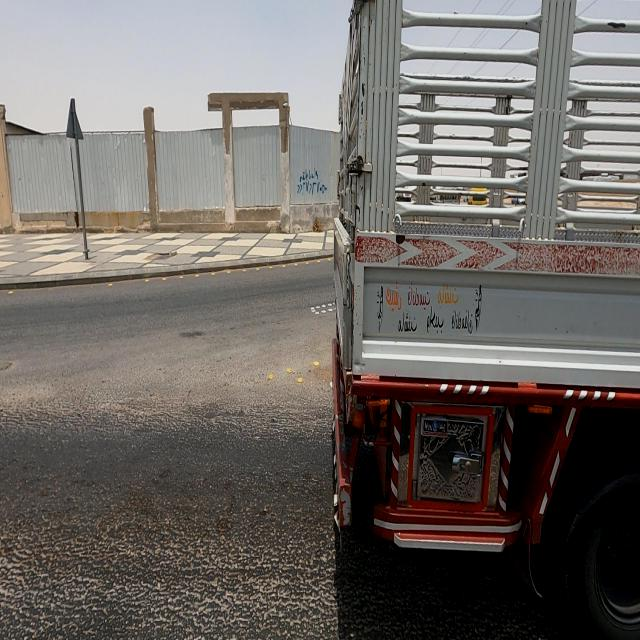debris: (267, 122, 361, 238)
